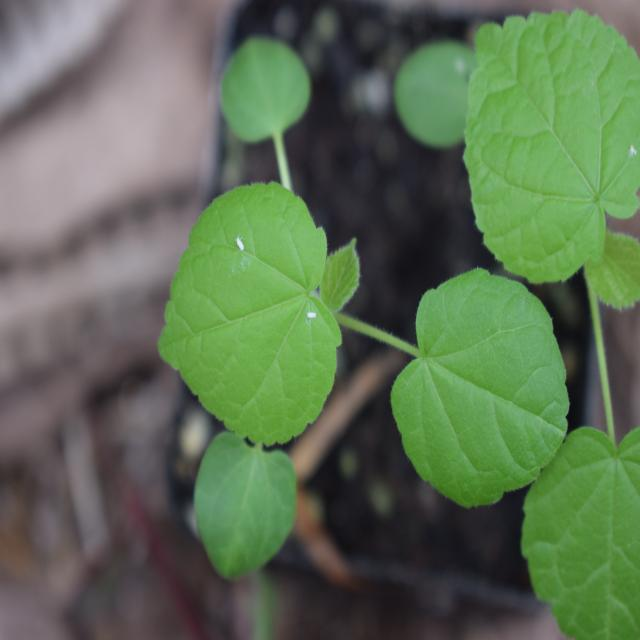abutilon theophrasti: (174, 70, 559, 526)
